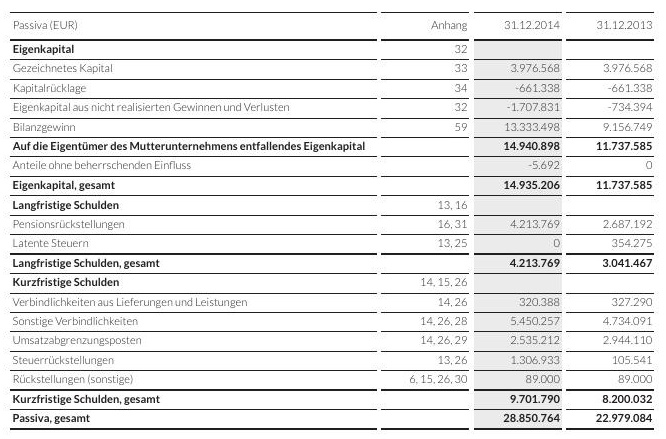table: (0, 0, 666, 439)
